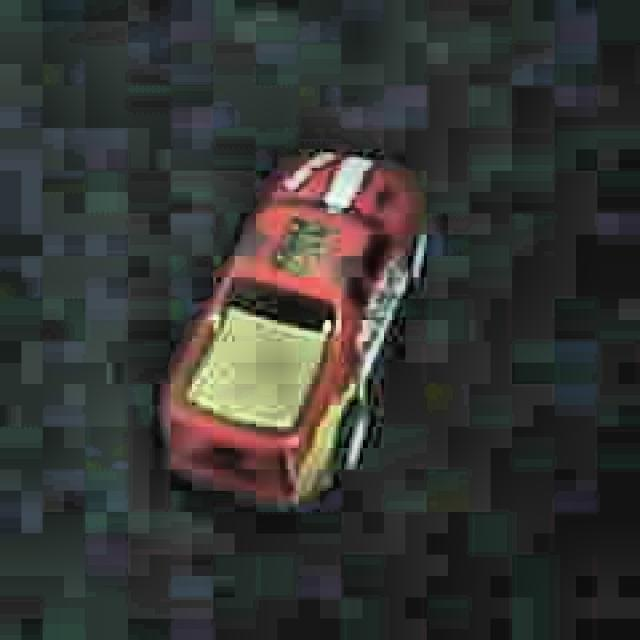car: (151, 142, 435, 520)
